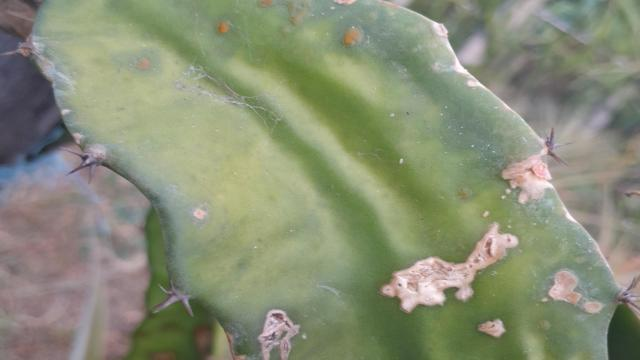stemcanker: (339, 24, 366, 51), (130, 55, 156, 78), (215, 17, 234, 38)
